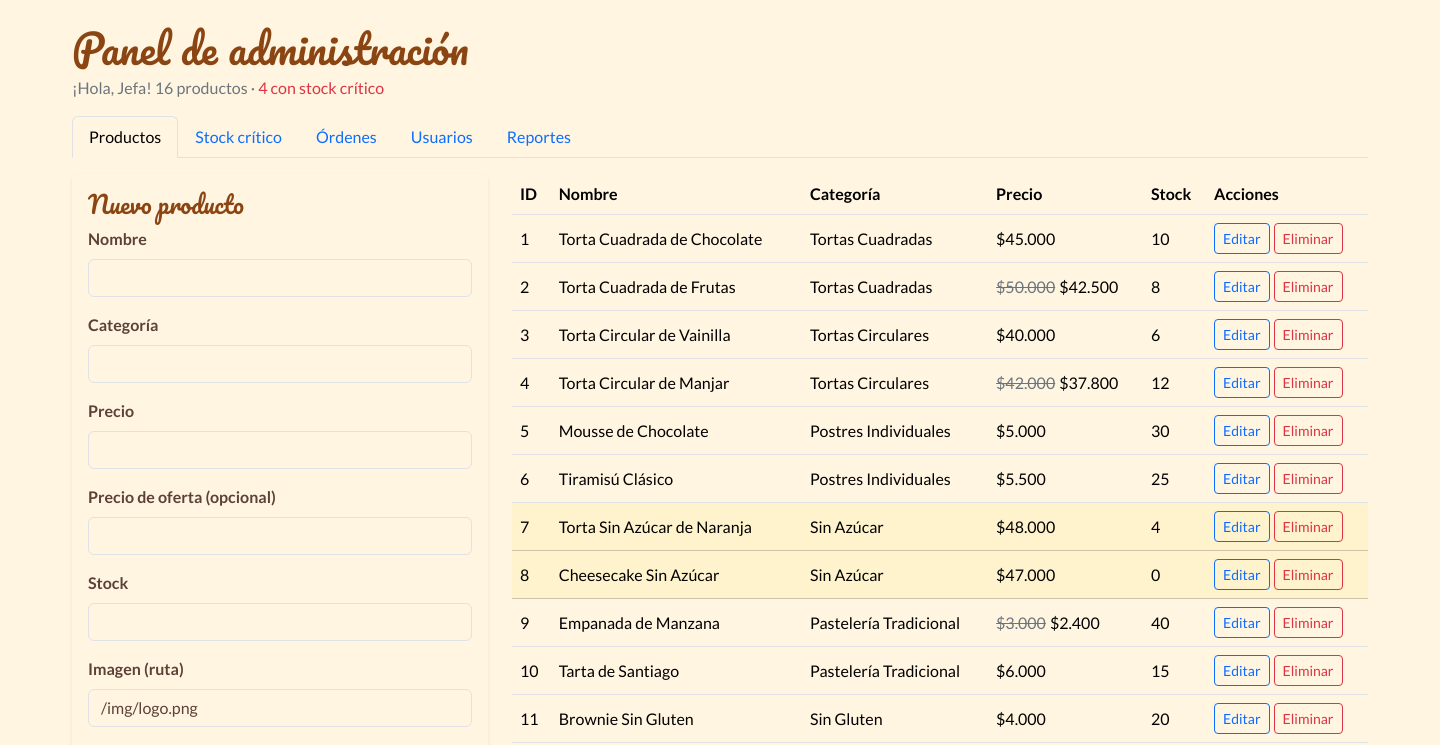
<Admin /> › al cambiar de pestaña muestra el contenido de Usuarios
Click the tab "Usuarios" at (442,137), box [394,116,490,158]
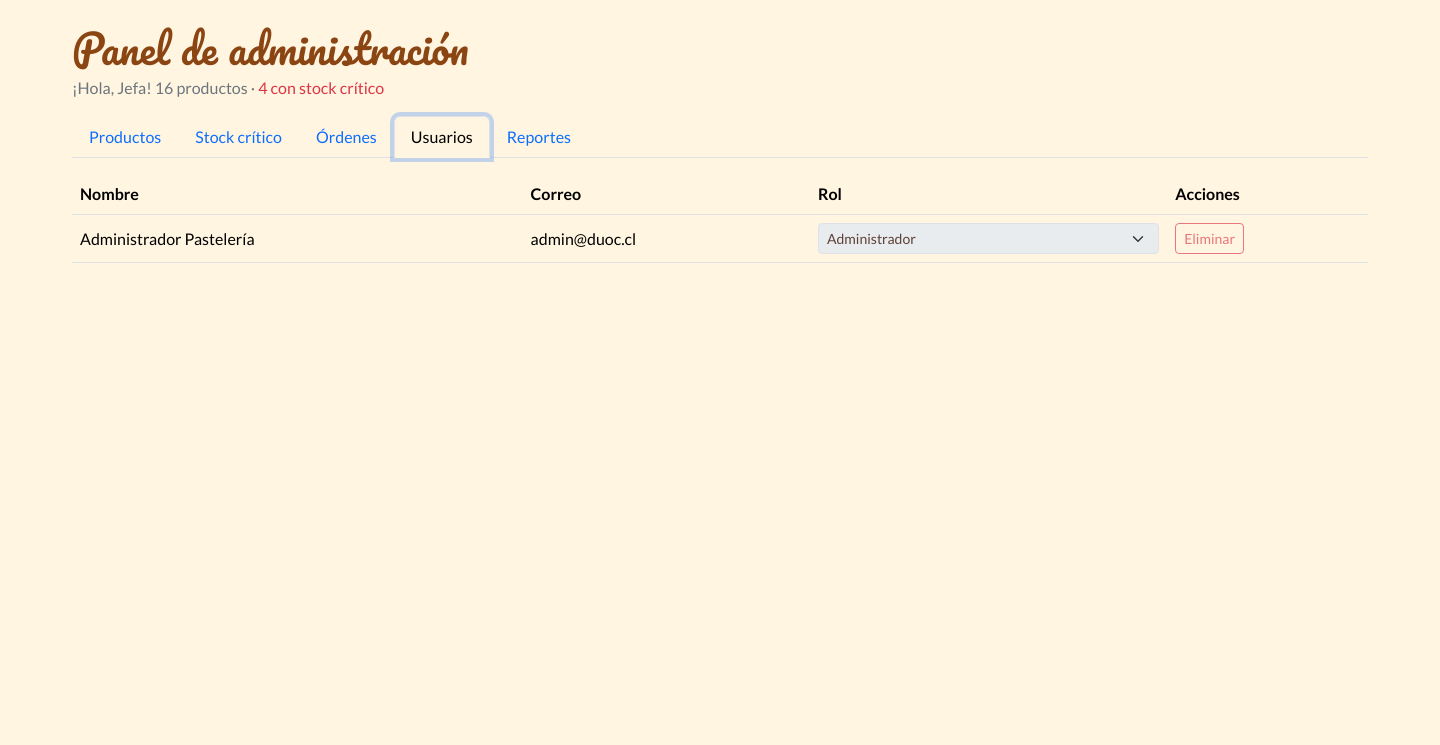
Check: the text "admin@duoc.cl" is shown, box [523,214,810,262]
